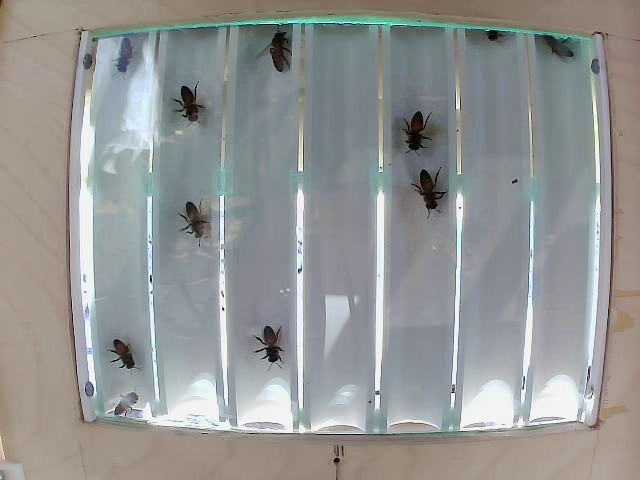bee: (239, 311, 307, 377), (255, 23, 309, 74), (180, 189, 218, 248), (167, 83, 214, 124), (107, 324, 144, 373), (398, 110, 438, 155), (103, 44, 143, 84), (416, 159, 443, 216)
